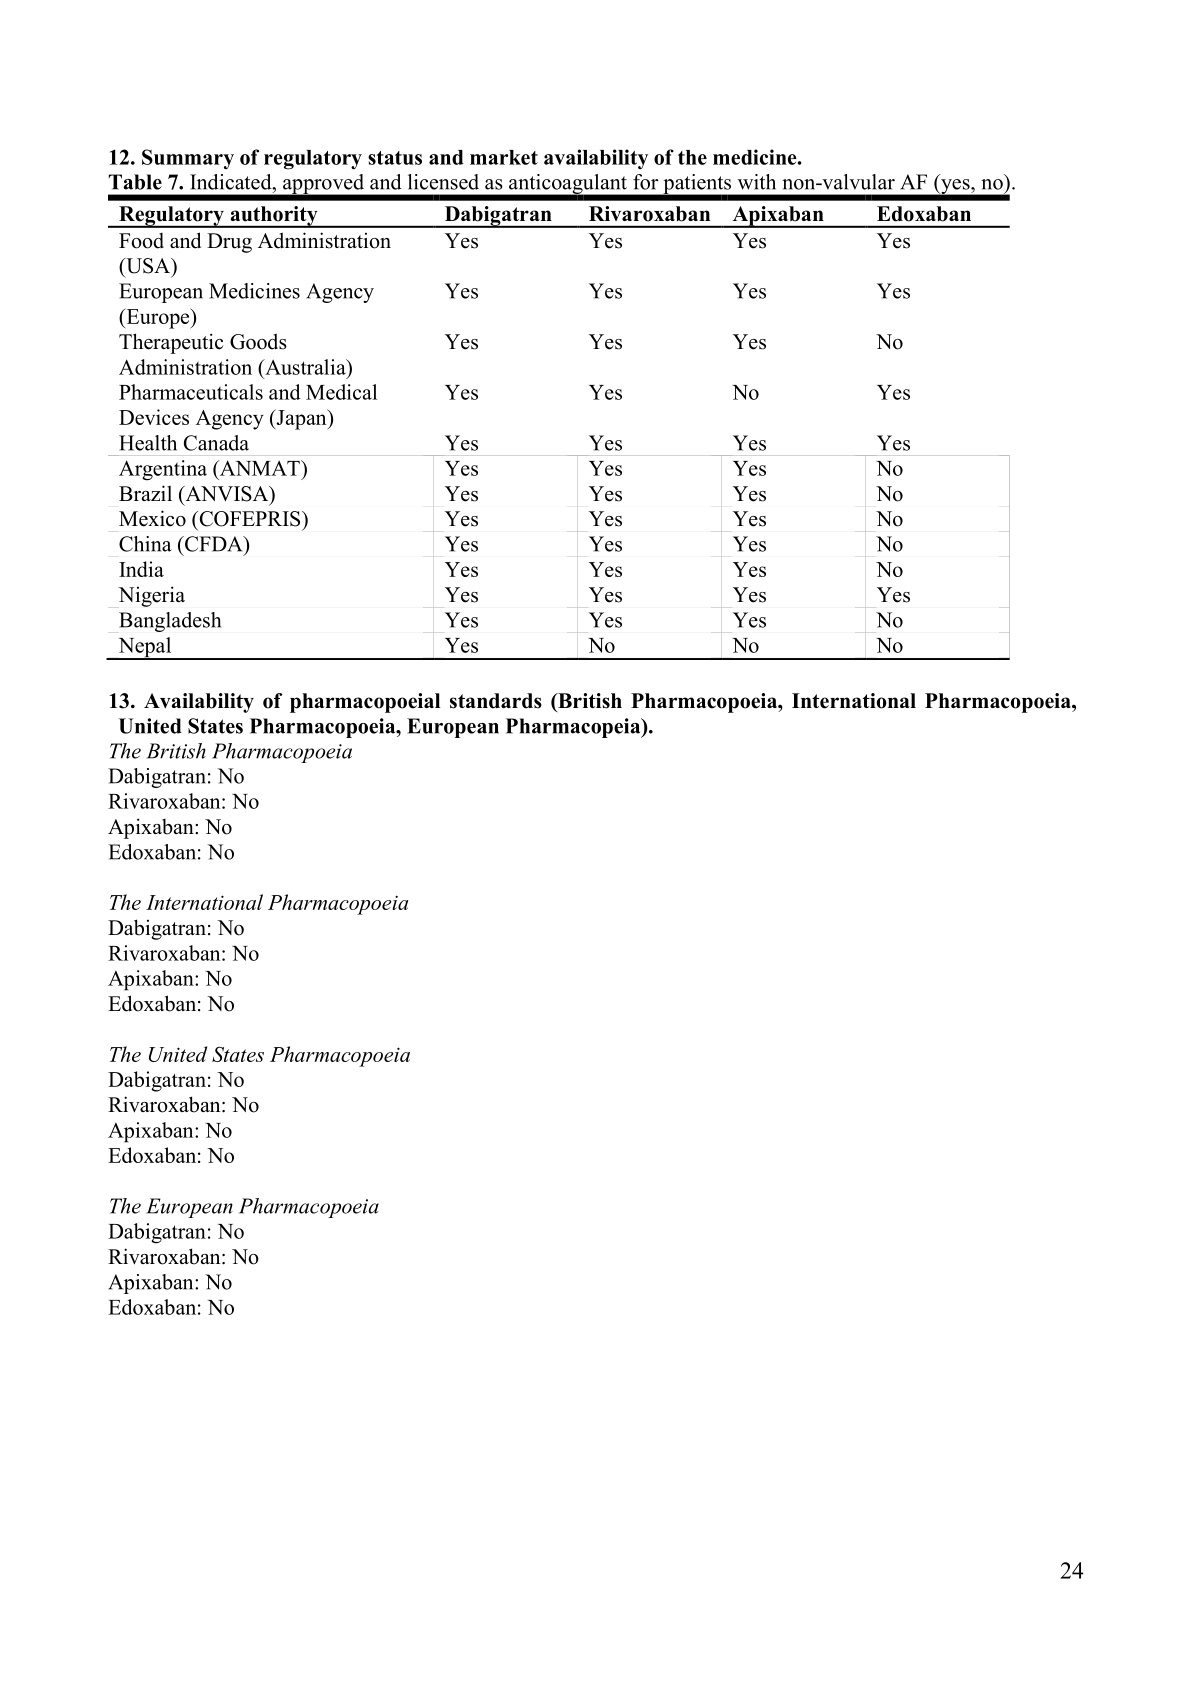partial_lined: (107, 192, 1010, 662)
